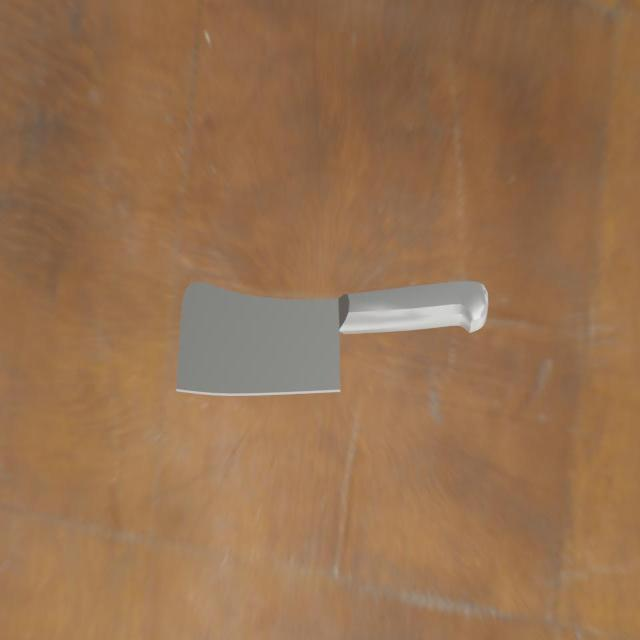knife: (339, 278, 495, 334)
